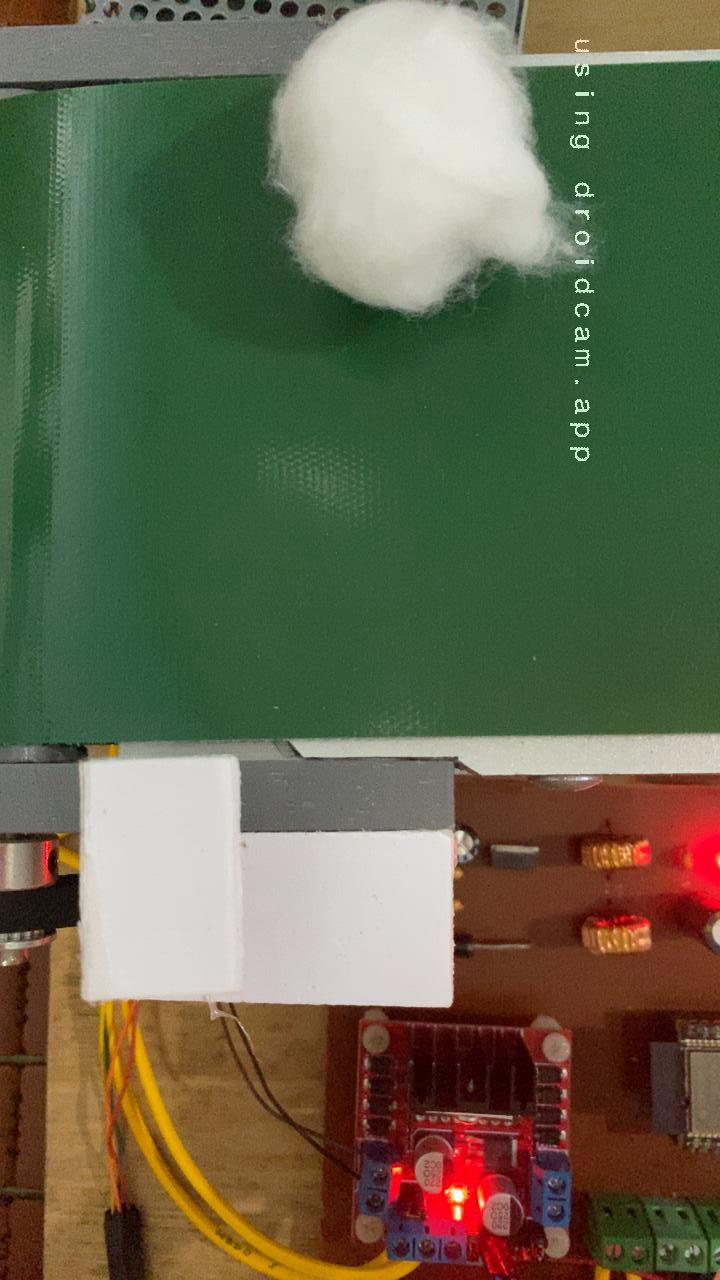cotton: (266, 75, 598, 321)
